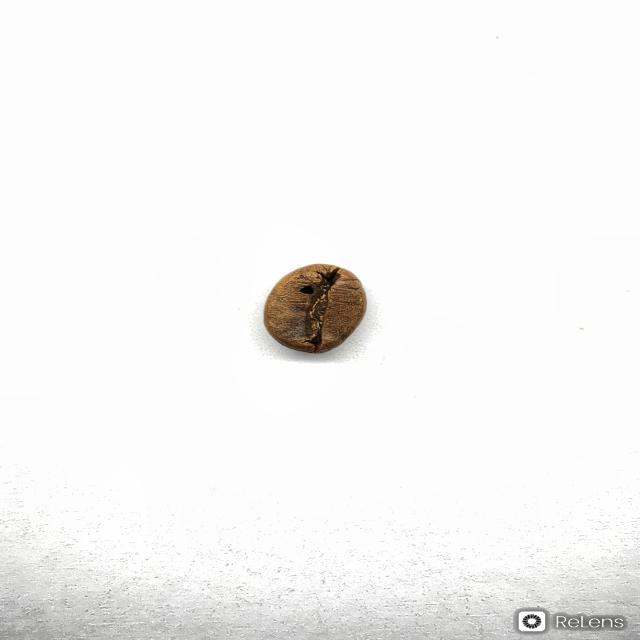Insect damage: (262, 262, 367, 354)
